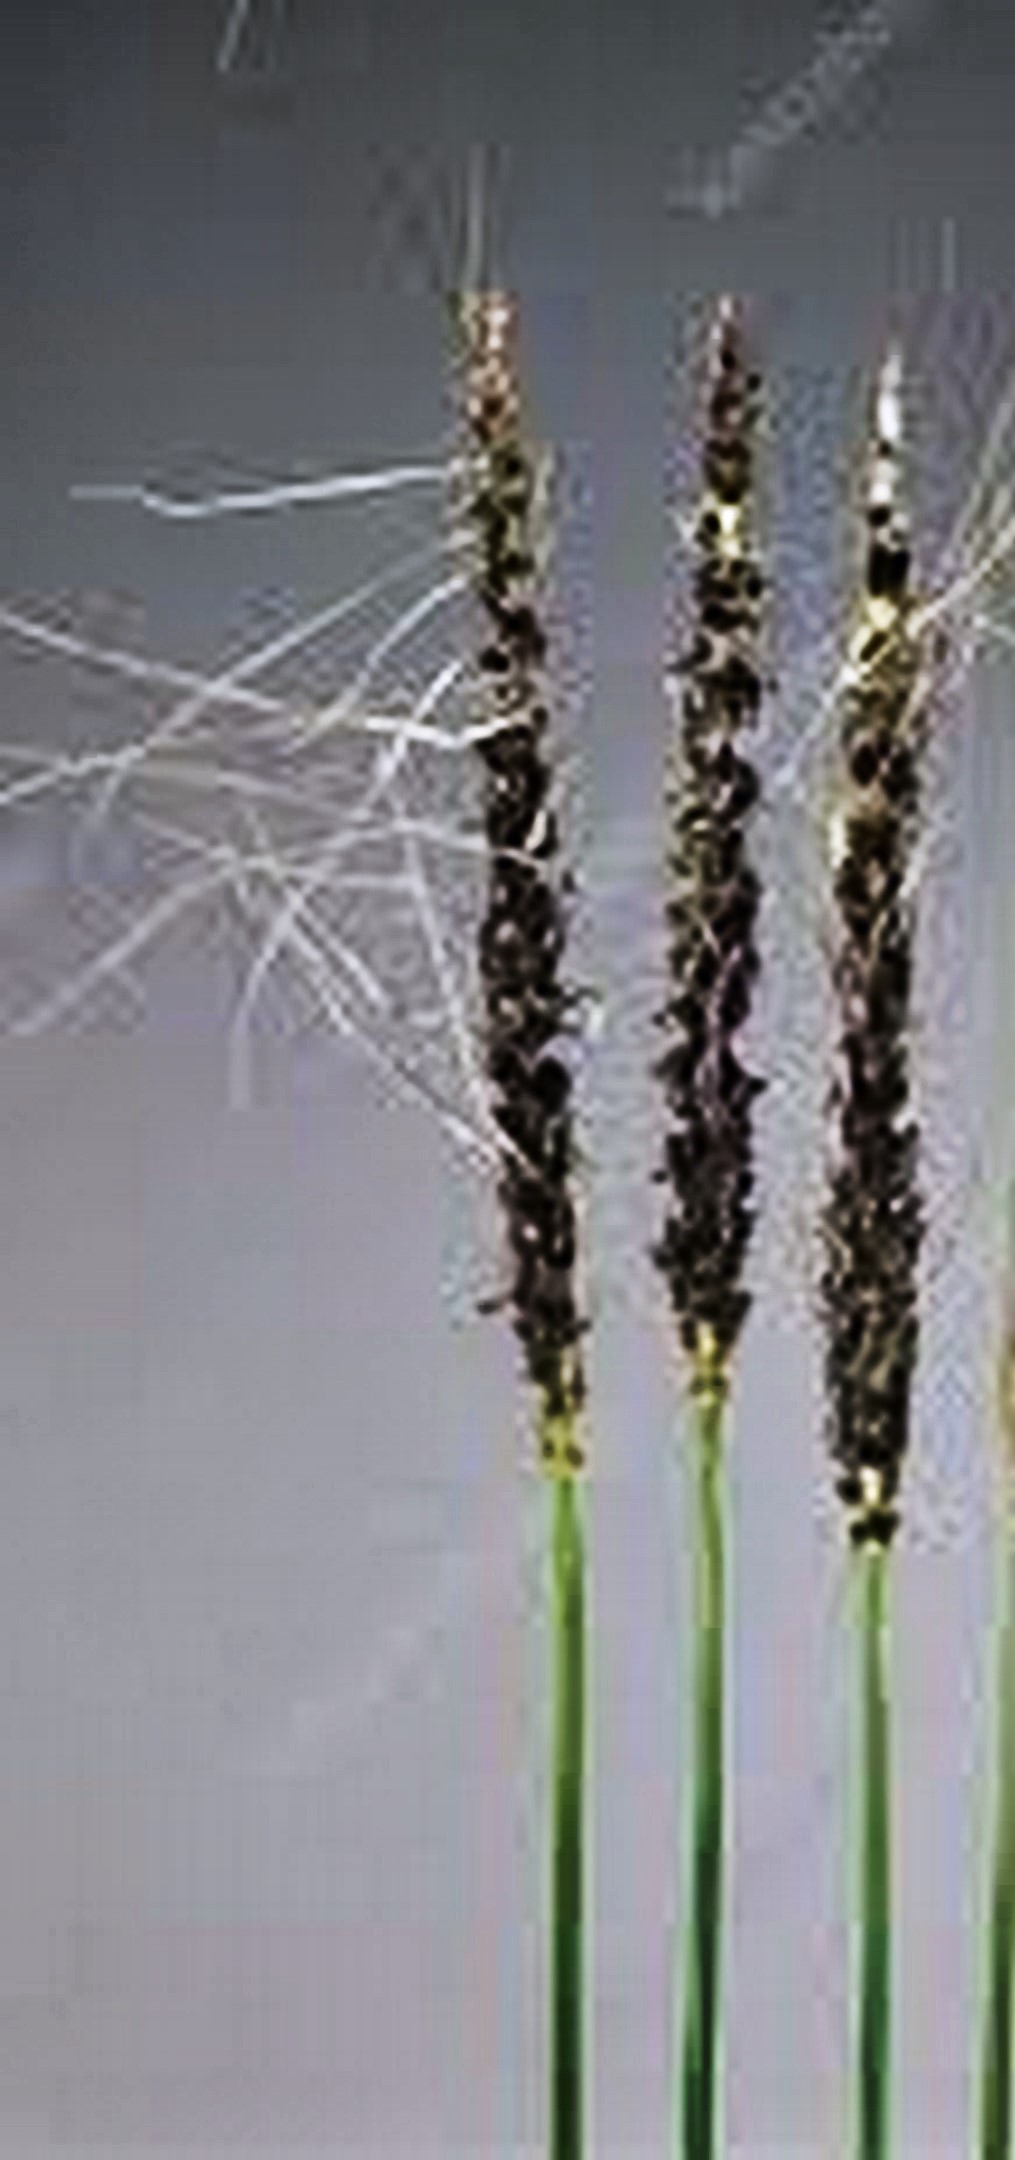Wheat Loose Smut: (430, 298, 970, 1597)
